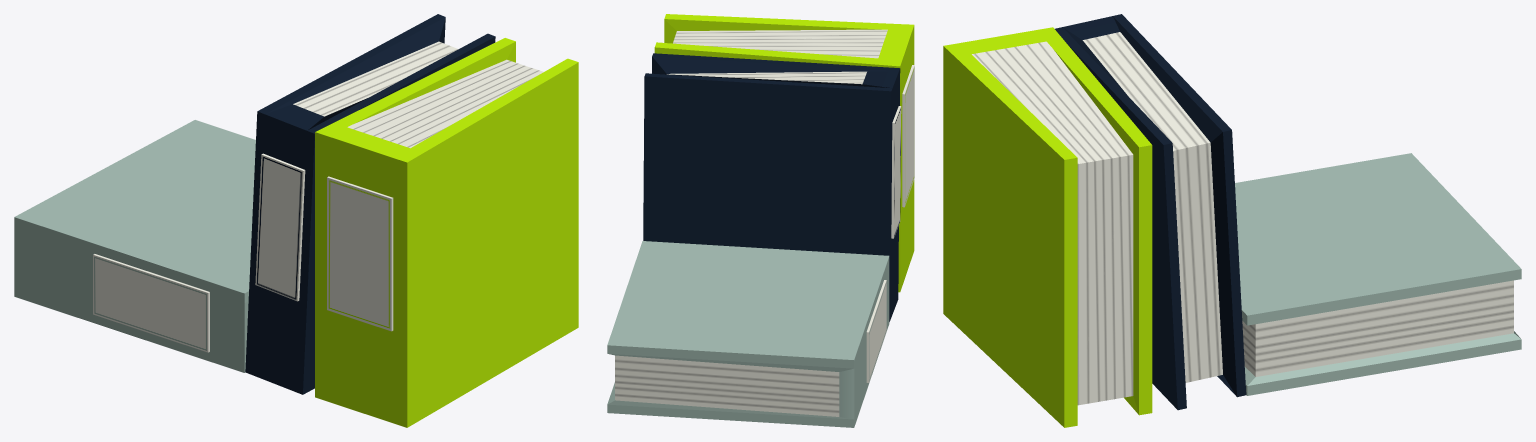
The model's file is FoldersTextured_v1.fbx.
3 renders of one model, left to right at view 1: azimuth 30°, elevation 25°; view 2: azimuth 150°, elevation 25°; view 3: azimuth 270°, elevation 25°, orthographic. The views are drawn at different scales.
Visible parts, largest first — view 1: File_1, File_3, File_2; view 2: File_2, File_3, File_1; view 3: File_1, File_3, File_2.
Part boxes in pixels (box(x1,y1,x2,y2)): File_1: box(315, 38, 578, 427); File_3: box(14, 120, 255, 372); File_2: box(245, 14, 495, 394); File_2: box(643, 53, 901, 321); File_3: box(607, 241, 889, 427); File_1: box(654, 14, 914, 292); File_1: box(943, 27, 1152, 427); File_3: box(1235, 153, 1521, 395); File_2: box(1055, 14, 1246, 410).
Size of the model in its own units: 1.55 by 1.01 by 1.96.
